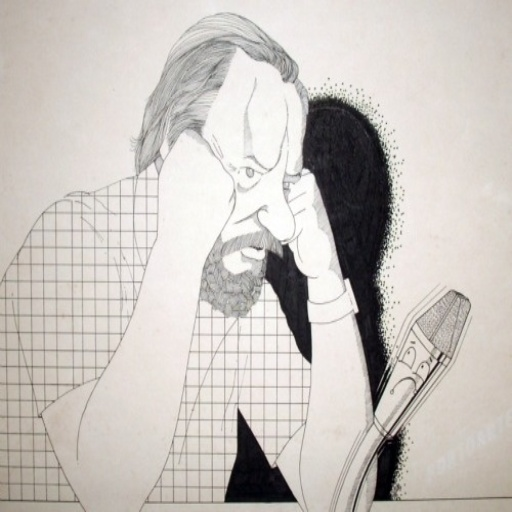hand: (158, 128, 234, 230), (280, 165, 336, 278)
